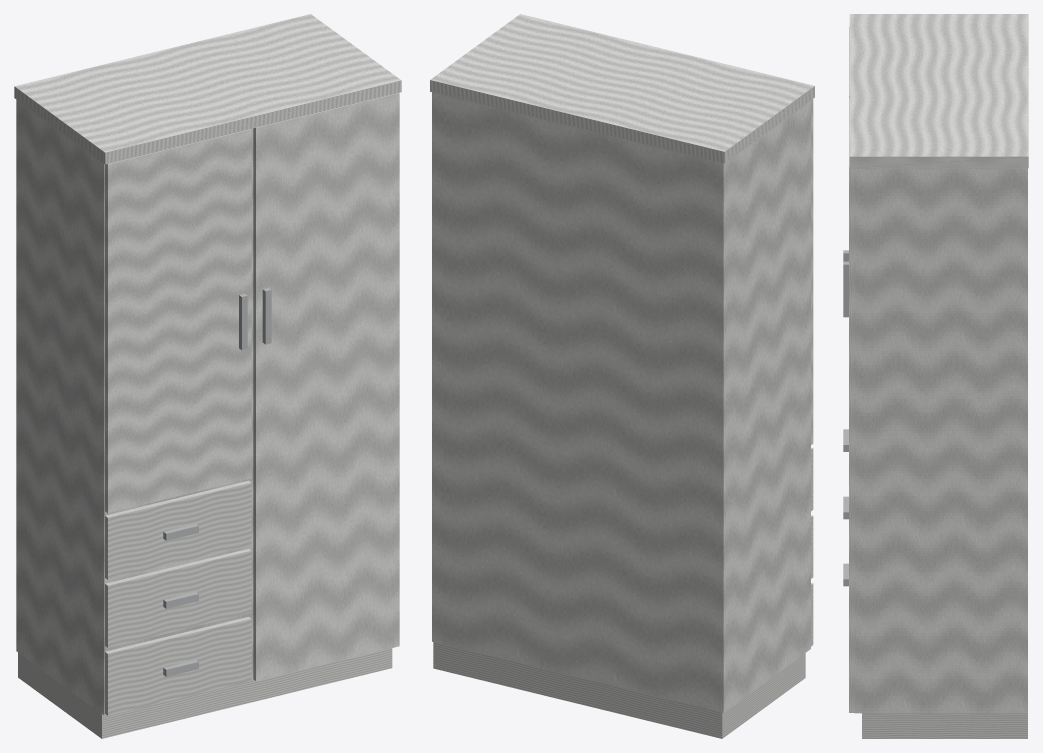
3 views of the same model, side by side, from view 1: azimuth 30°, elevation 25°; view 2: azimuth 150°, elevation 25°; view 3: azimuth 270°, elevation 25° (orthographic).
Visible parts, largest first — view 1: 5 right_door, 2 cabinet_body, 4 left_door, 3 top_panel, 6 drawer_1, 7 drawer_2, 8 drawer_3, 1 base_plinth; view 2: 2 cabinet_body, 3 top_panel, 1 base_plinth, 4 left_door; view 3: 2 cabinet_body, 3 top_panel, 1 base_plinth, 5 right_door, 10 right_door_handle.
Part boxes in pixels (x1,y1,x2,y2): 5 right_door: (253, 93, 399, 681); 2 cabinet_body: (16, 100, 253, 715); 4 left_door: (105, 129, 251, 513); 3 top_panel: (14, 14, 401, 164); 6 drawer_1: (105, 480, 251, 579); 7 drawer_2: (105, 548, 251, 647); 8 drawer_3: (105, 616, 251, 715); 1 base_plinth: (18, 648, 392, 738); 2 cabinet_body: (432, 92, 810, 712); 3 top_panel: (430, 14, 814, 163); 1 base_plinth: (433, 642, 805, 738); 4 left_door: (811, 99, 813, 444); 2 cabinet_body: (854, 168, 1027, 713); 3 top_panel: (849, 14, 1028, 168); 1 base_plinth: (862, 713, 1027, 738); 5 right_door: (849, 98, 854, 712); 10 right_door_handle: (843, 261, 848, 317).
Bounding box in the file's own units: 0.9589 × 1.83 × 0.5271.
Materials: 3 (2 with a texture image).
